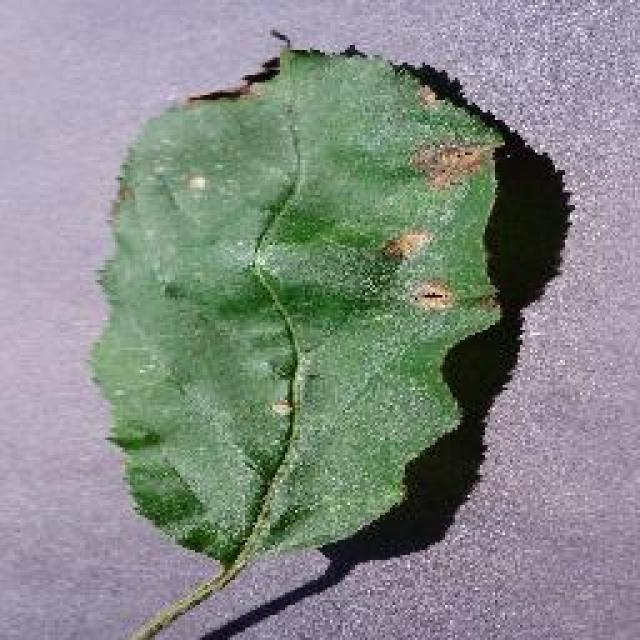Black_rot: (85, 32, 513, 638)
